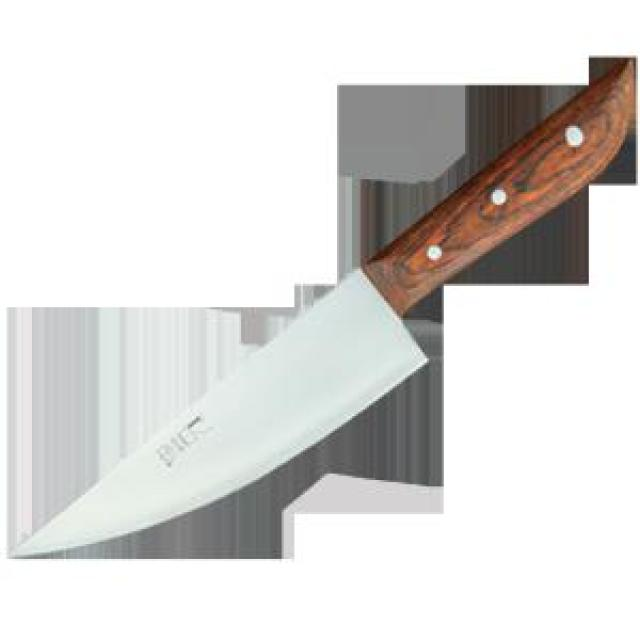knife: (8, 54, 638, 566)
